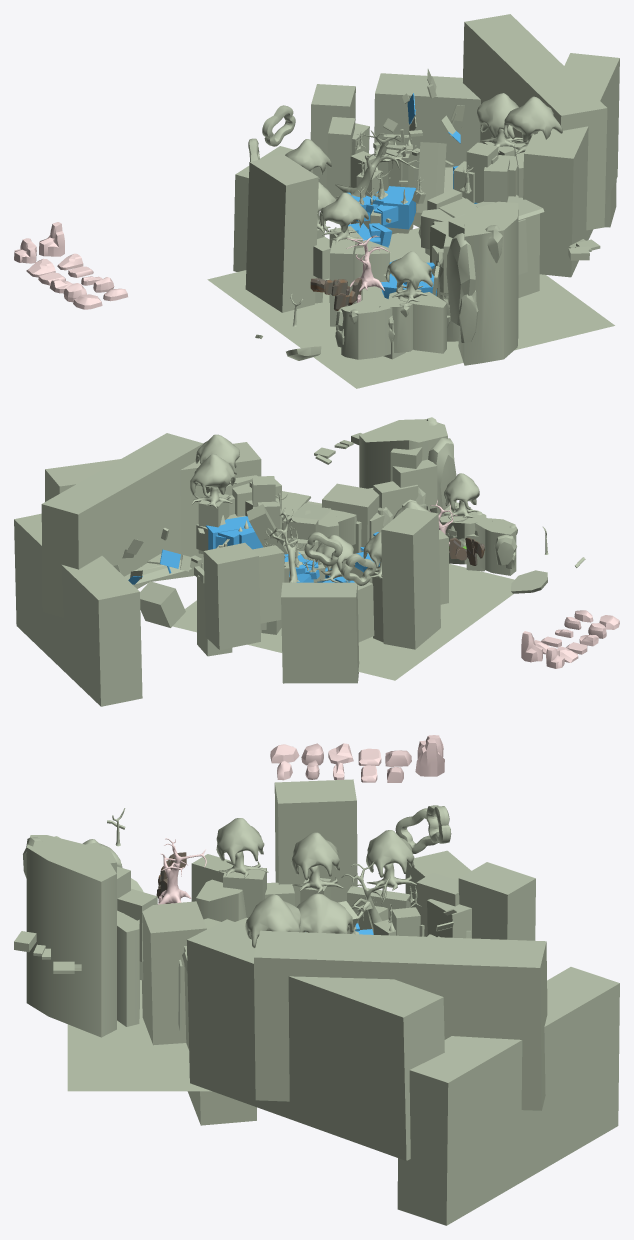
Rendered from blue.fbx.
3 views of the same model, one above another, from view 1: azimuth 30°, elevation 25°; view 2: azimuth 150°, elevation 25°; view 3: azimuth 270°, elevation 25° (orthographic). The views are drawn at different scales.
Visible parts, largest first — view 1: Plane, Cube__78, Cube__38, testclif__1, Cube__22, Cube__89, testclif__9, Cube__81, testclif, Cube__1, Cube__10, Cube__45 (+21 smaller); view 2: Cube__78, Cube__89, Cube__10, Cube__22, Plane, Cube__81, testclif__1, Cube__38, testclif__9, Cube__71, Cube__1, Cube__42 (+29 smaller); view 3: Cube__38, Cube__89, Cube__78, testclif__1, Plane, Cube__22, Cube__71, Cube__81, testclif__2, Cube__51, Tree_22_p2_Fall_6, Tree_22_p2_Fall_2 (+17 smaller).
Part boxes in pixels (x1,y1,x2,y2): Plane: (207,228,614,388); Cube__78: (463,14,607,230); Cube__38: (523,53,619,277); testclif__1: (446,201,518,365); Cube__22: (245,154,318,312); Cube__89: (374,73,616,227); testclif__9: (335,299,392,359); Cube__81: (310,84,355,187); testclif: (398,292,446,353); Cube__1: (326,117,355,199); Cube__10: (233,146,312,271); Cube__45: (416,142,446,212); Cube__78: (41,433,203,617); Cube__89: (14,513,142,706); Cube__10: (281,582,359,683); Cube__22: (381,508,440,649); Plane: (172,563,514,680); Cube__81: (203,542,260,649); testclif__1: (359,417,456,516); Cube__38: (45,442,261,581); testclif__9: (475,518,517,575); Cube__71: (322,483,379,582); Cube__1: (252,545,284,623); Cube__42: (140,581,185,627); Cube__38: (187,919,444,1160); Cube__89: (397,967,619,1225); Cube__78: (254,930,547,1110); testclif__1: (23,835,116,1037); Plane: (67,980,211,1091); Cube__22: (274,779,357,906); Cube__71: (142,901,206,1045); Cube__81: (458,862,535,940); testclif__2: (117,910,139,1026); Cube__51: (184,946,256,1125); Tree_22_p2_Fall_6: (296,893,353,933); Tree_22_p2_Fall_2: (245,894,300,948).
Bounding box in the file's own units: 50240 × 16099 × 35863.
